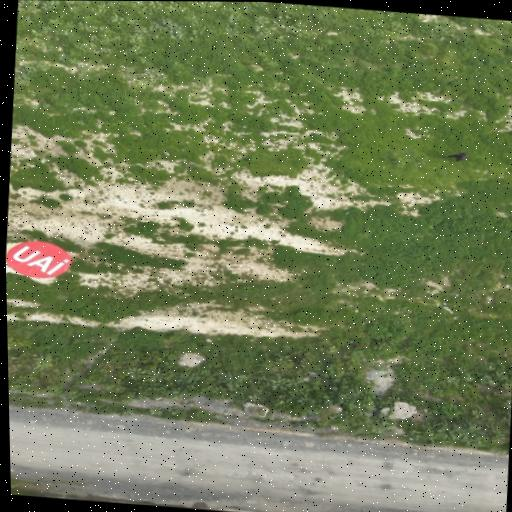person: (448, 152, 466, 160)
uai: (6, 241, 71, 279)
